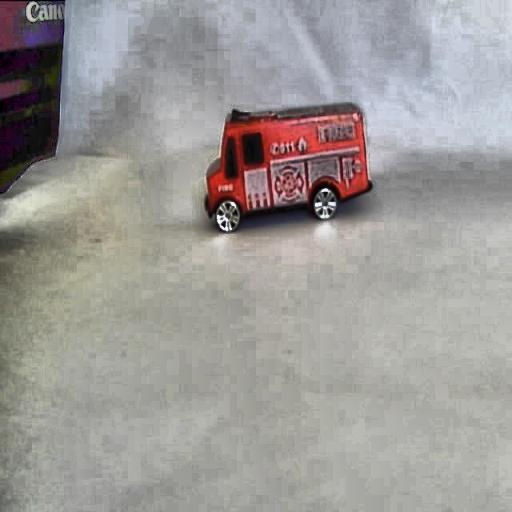fire_truck: (199, 99, 374, 233)
